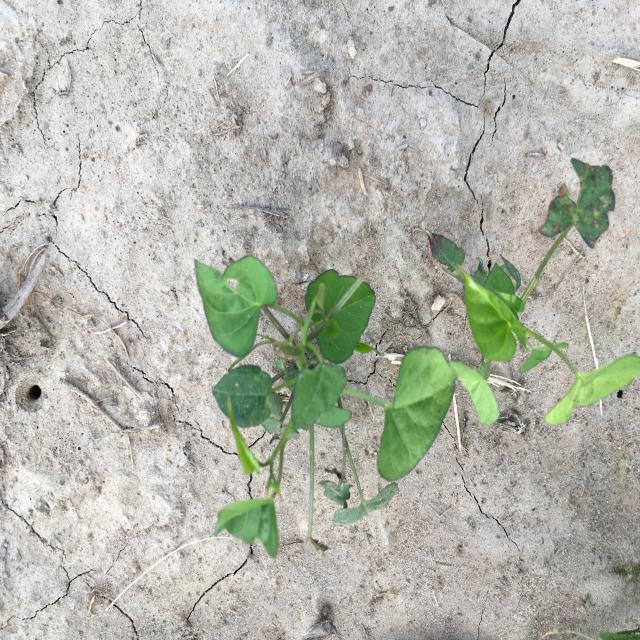MorningGlory: (194, 255, 457, 558), (425, 156, 640, 425)
